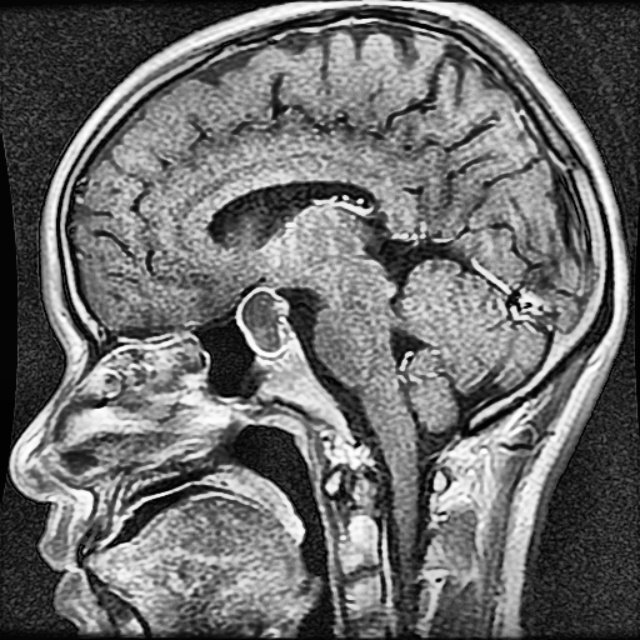Pituitary: (240, 288, 288, 355)
